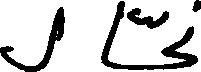ا: (99, 0, 124, 69)
ح: (152, 45, 197, 67)
ل: (0, 5, 63, 71)
ن: (176, 0, 199, 47)
